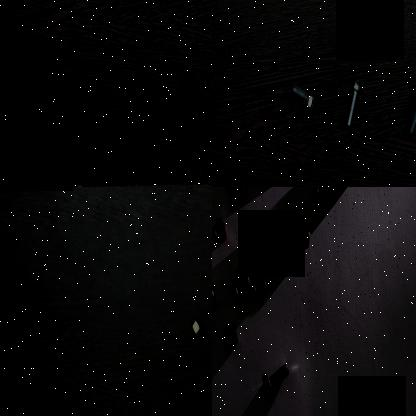Bolts: (258, 362, 288, 402), (340, 78, 362, 128), (288, 78, 318, 114), (404, 88, 416, 131)
NUTS: (231, 269, 250, 303), (310, 187, 332, 212), (189, 312, 204, 348), (255, 220, 271, 252), (250, 270, 266, 301), (294, 224, 309, 256), (212, 216, 226, 247), (223, 323, 237, 354), (222, 187, 246, 202)
